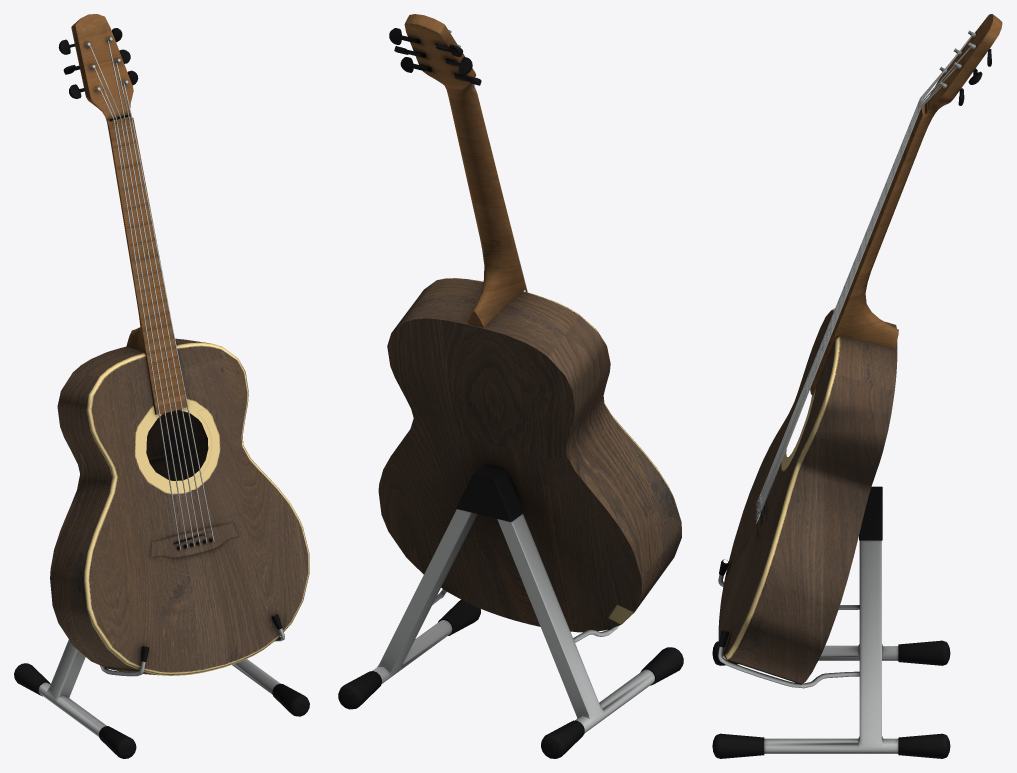
File: SM_Guitar.glb
The picture shows the model from 3 angles, left to right: view 1: azimuth 30°, elevation 25°; view 2: azimuth 150°, elevation 25°; view 3: azimuth 270°, elevation 25°; orthographic projection. The views are drawn at different scales.
Visible parts, largest first — view 1: SM_Guitar; view 2: SM_Guitar; view 3: SM_Guitar.
Boxes of the visible parts, x1,y1,x2,y2 form: SM_Guitar: (14,14,309,758); SM_Guitar: (338,14,683,758); SM_Guitar: (712,14,1002,758).
Bounding box in the file's own units: 0.3971 × 1.08 × 0.407.
1 material, 1 textured.
